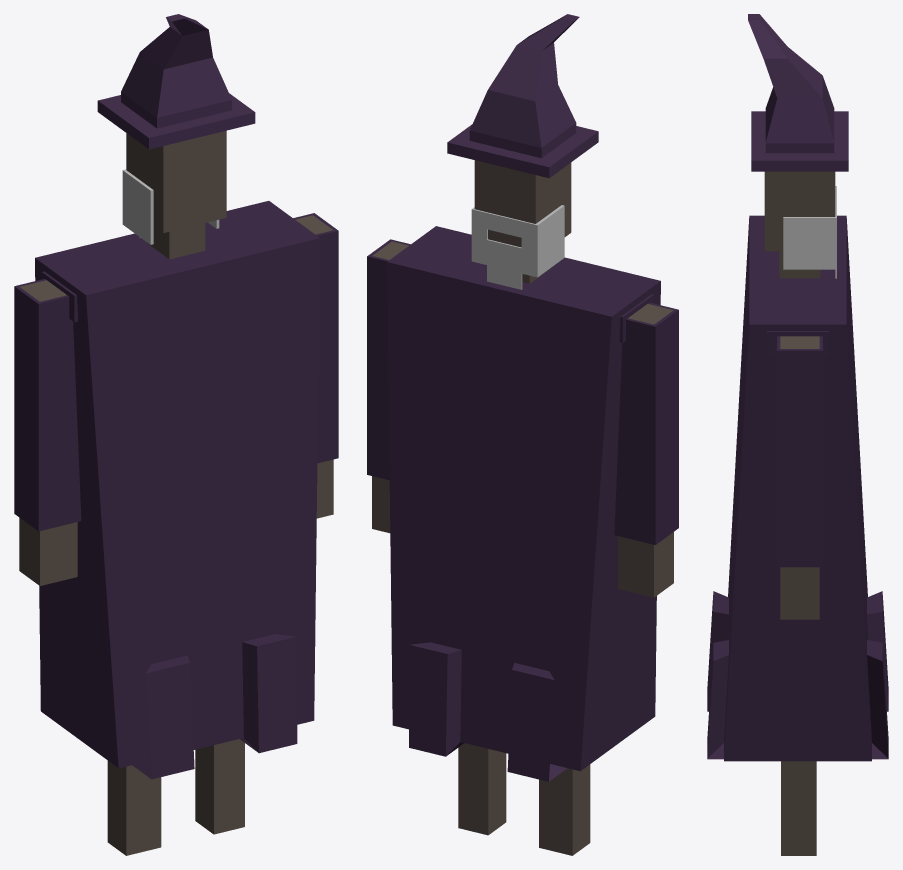
Rendered from Mage.fbx.
The picture shows the model from 3 angles, left to right: view 1: azimuth 30°, elevation 25°; view 2: azimuth 150°, elevation 25°; view 3: azimuth 270°, elevation 25°; orthographic projection. The views are drawn at different scales.
Parts seen in each view (by area): view 1: SM_head1; view 2: SM_head1; view 3: SM_head1.
Boxes of the visible parts, left/top/right/bottom form: SM_head1: left=14, top=14, right=338, bottom=855; SM_head1: left=367, top=14, right=678, bottom=855; SM_head1: left=707, top=14, right=888, bottom=855.
Bounding box in the file's own units: 79.79 × 213 × 43.9.
